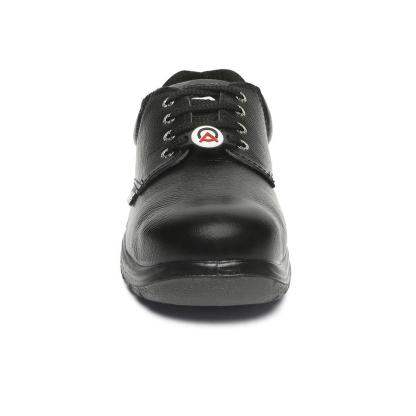bota: (117, 65, 294, 319)
